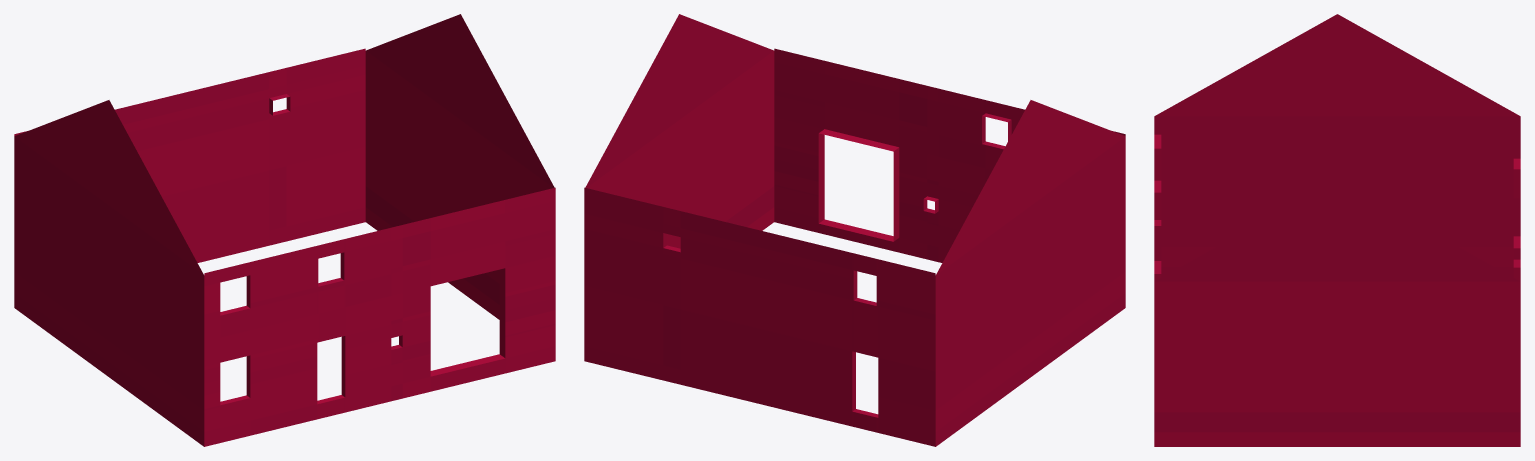
File: SM_Bld_169_Masonry.glb
3 renders of one model, left to right at view 1: azimuth 30°, elevation 25°; view 2: azimuth 150°, elevation 25°; view 3: azimuth 270°, elevation 25°, orthographic. The views are drawn at different scales.
Visible parts, largest first — view 1: SM_Bld_169_Masonry; view 2: SM_Bld_169_Masonry; view 3: SM_Bld_169_Masonry.
Part boxes in pixels (box(x1,y1,x2,y2)): SM_Bld_169_Masonry: box(14, 14, 555, 446); SM_Bld_169_Masonry: box(584, 14, 1125, 446); SM_Bld_169_Masonry: box(1154, 14, 1520, 446).
Size of the model in its own units: 12.22 by 9.23 by 11.44.
